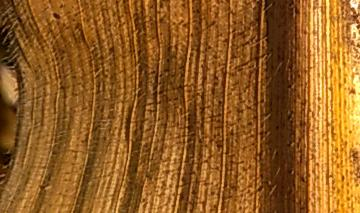tarspot: (73, 22, 89, 48), (287, 1, 299, 14), (346, 86, 357, 97), (51, 12, 63, 22), (286, 109, 295, 122), (137, 87, 146, 98), (107, 45, 114, 56), (285, 139, 293, 148), (274, 149, 280, 161), (216, 99, 224, 108), (215, 143, 224, 151), (298, 174, 306, 183), (287, 167, 294, 176), (256, 185, 265, 192), (273, 124, 281, 131), (157, 88, 164, 96), (154, 99, 162, 106), (149, 69, 157, 76), (101, 135, 108, 143), (258, 171, 264, 180), (285, 83, 292, 90), (58, 2, 64, 9), (165, 56, 170, 64), (223, 1, 232, 5), (121, 1, 129, 5), (158, 30, 162, 37), (254, 1, 260, 5)
